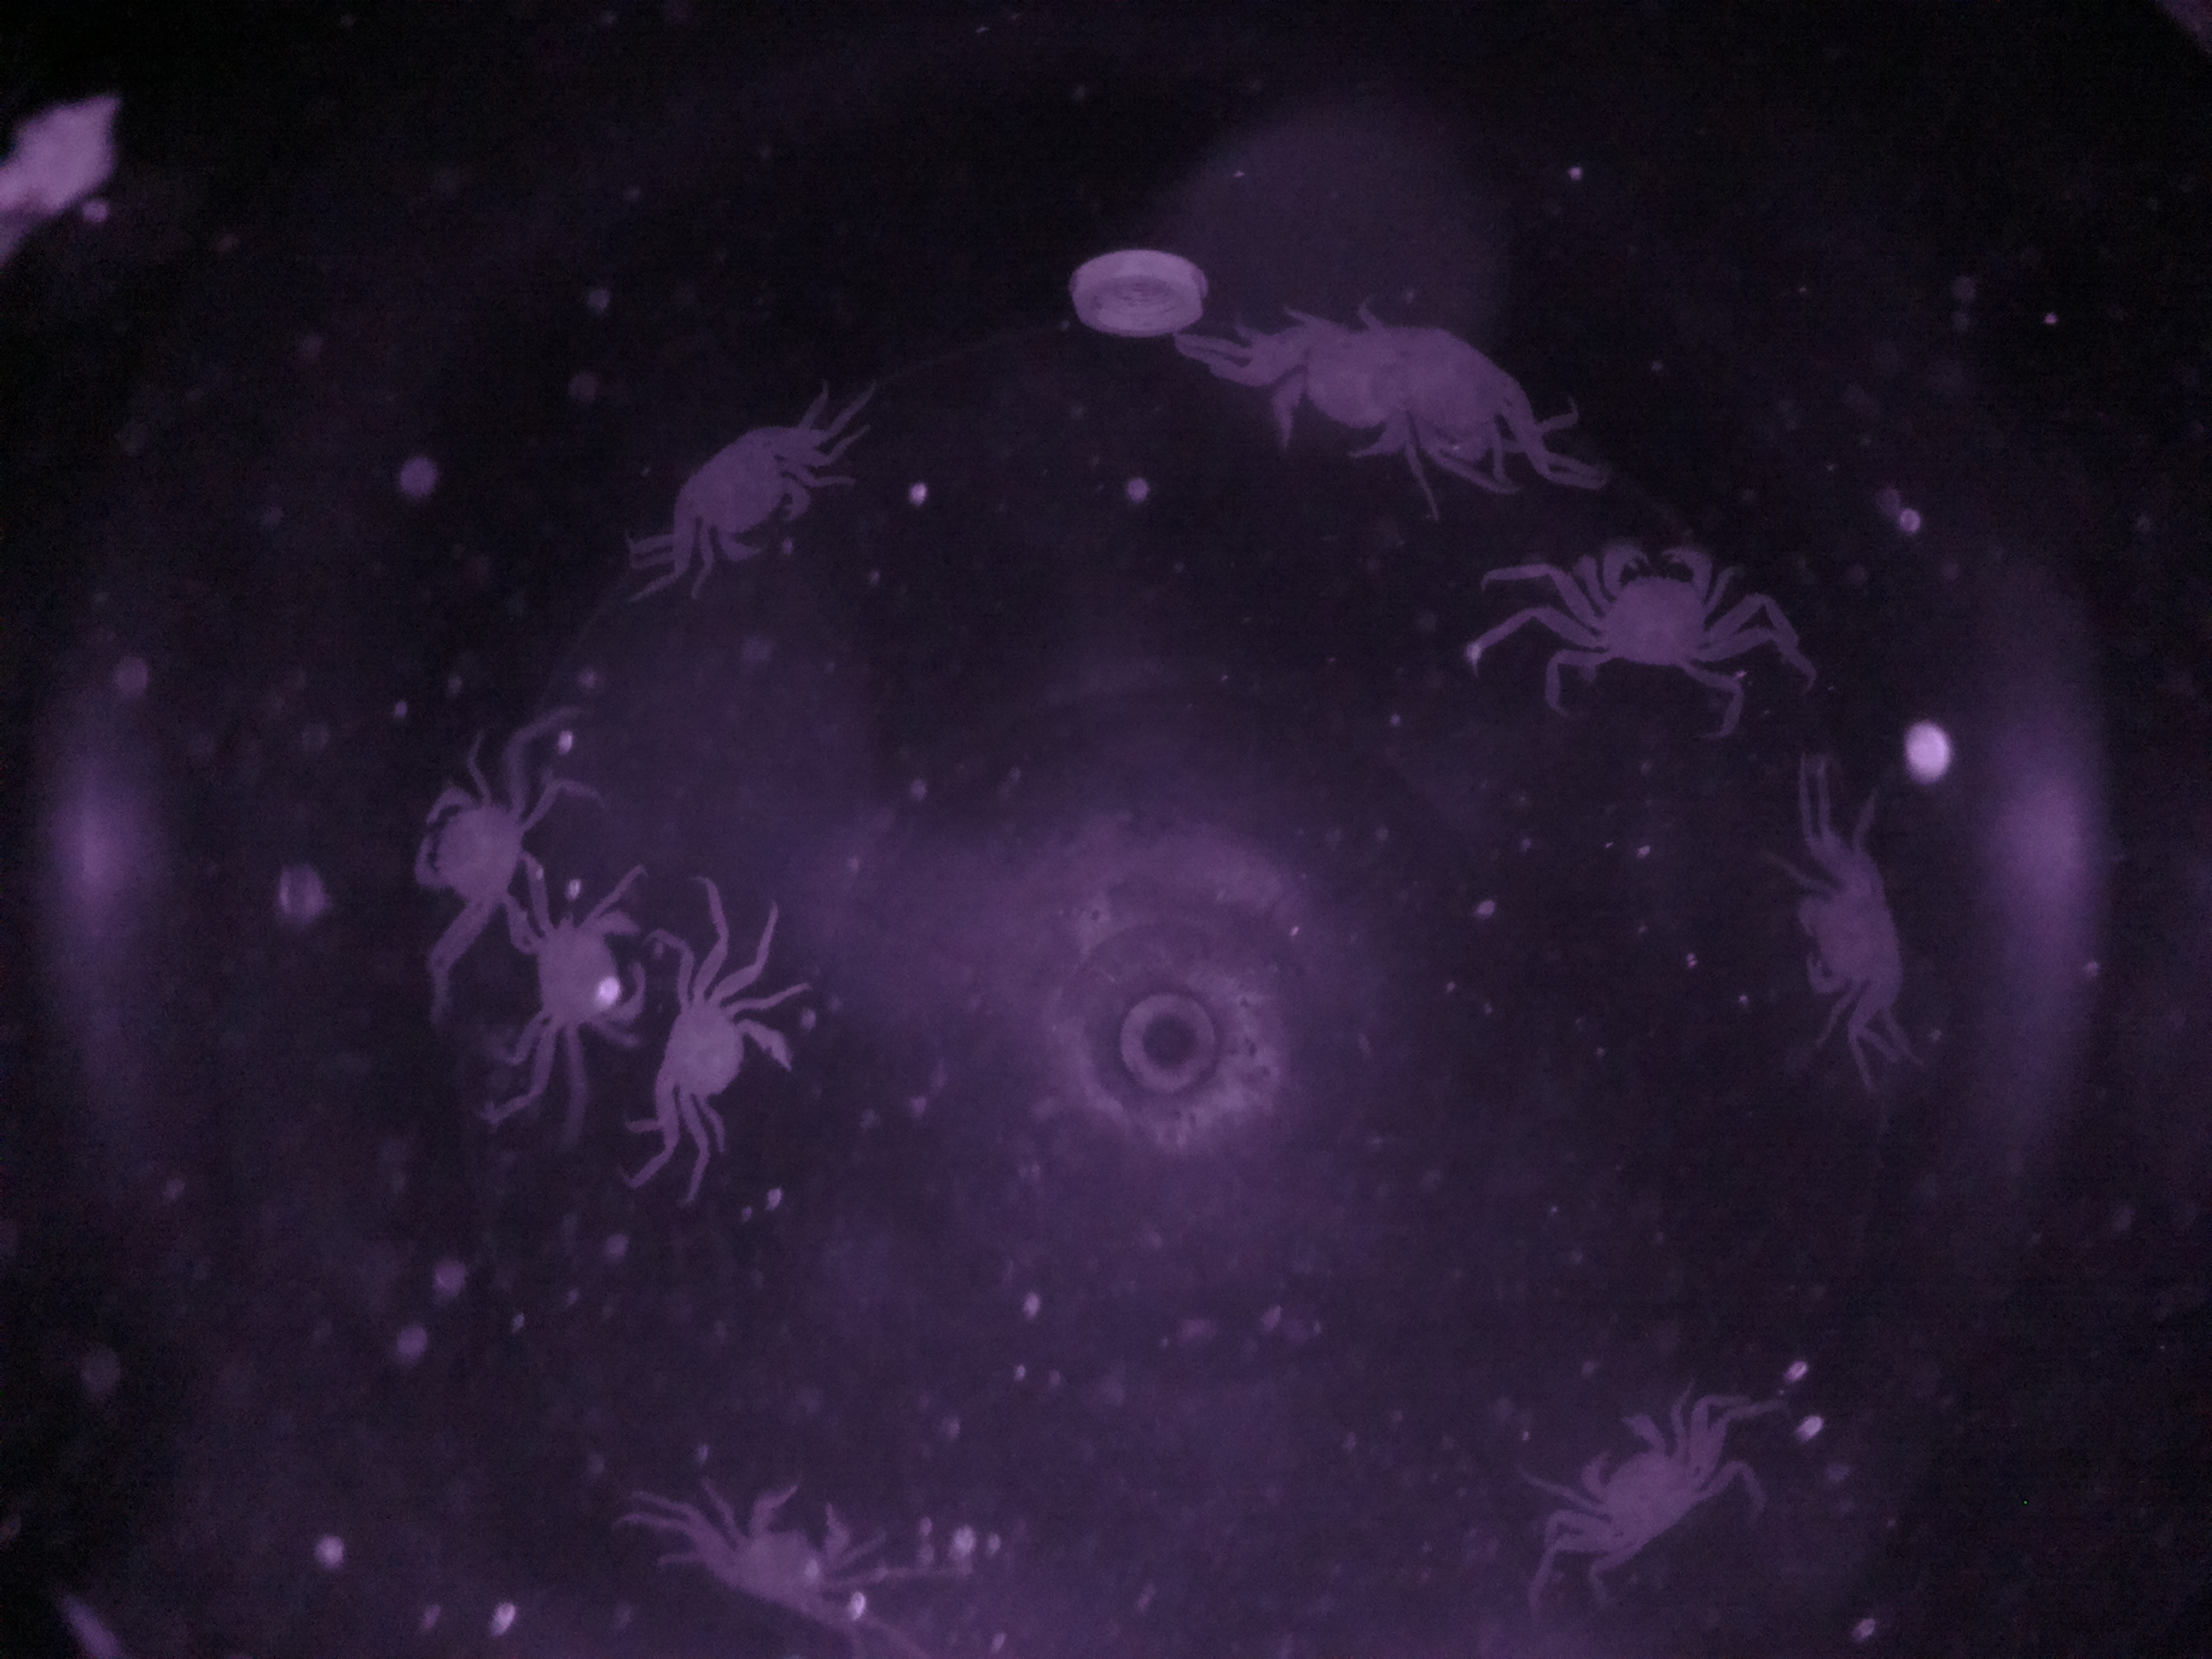Crab: (1759, 810, 1933, 1073), (1536, 1385, 1737, 1574), (653, 387, 831, 591), (493, 864, 658, 1082), (629, 958, 808, 1159), (1534, 528, 1759, 685), (683, 1462, 887, 1635)
